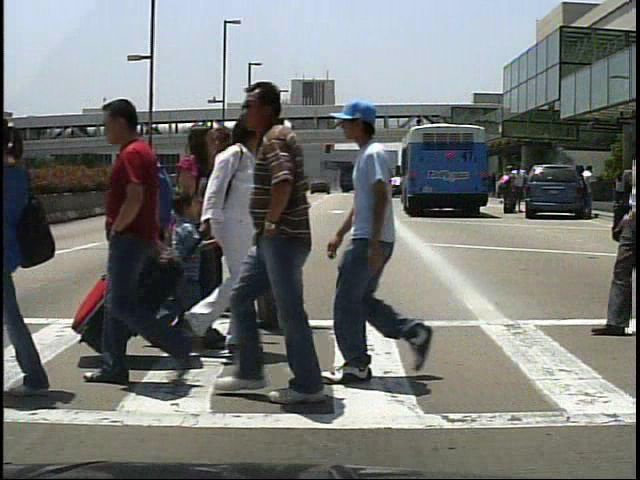person: (222, 84, 360, 424), (85, 91, 192, 389), (162, 108, 276, 363), (343, 104, 438, 384), (103, 122, 189, 343), (236, 135, 313, 331), (197, 128, 270, 322), (166, 120, 224, 362), (164, 188, 206, 320), (582, 163, 602, 218), (498, 166, 516, 219), (513, 165, 529, 215)
